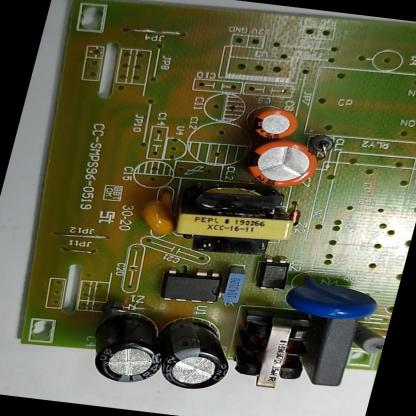Cap1: (236, 132, 331, 194)
Cap2: (238, 101, 310, 147)
Cap3: (144, 312, 245, 396)
Cap4: (75, 302, 179, 389)
MOSFET: (153, 262, 229, 308)
Mov: (276, 270, 394, 327)
Resistor: (341, 318, 389, 355)
Transformer: (156, 176, 310, 262), (221, 304, 324, 399)
